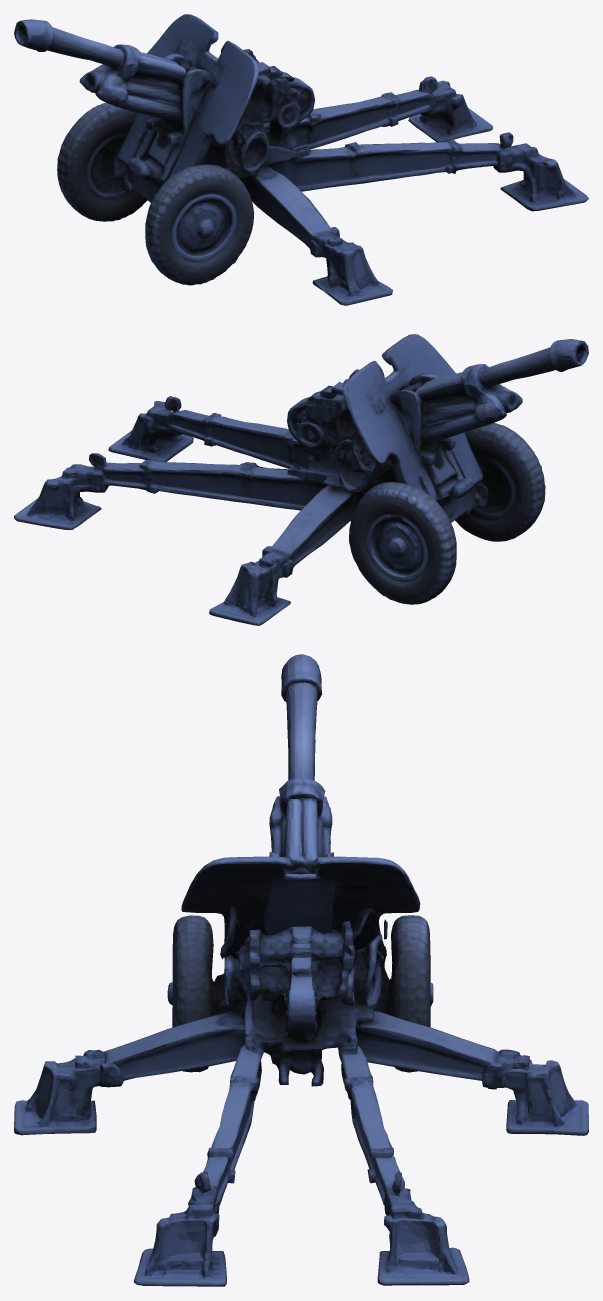
Rendered from howitzer_enemy.glb.
The picture shows the model from 3 angles, top to bottom: view 1: azimuth 30°, elevation 25°; view 2: azimuth 150°, elevation 25°; view 3: azimuth 270°, elevation 25°; orthographic projection. The views are drawn at different scales.
Visible parts, largest first — view 1: world; view 2: world; view 3: world.
Part boxes in pixels (x1,y1,x2,y2): world: [14, 14, 588, 305]; world: [14, 334, 588, 625]; world: [14, 654, 588, 1286].
Size of the model in its own units: 0.9999 by 0.4908 by 0.7761.
1 material, 1 textured.
